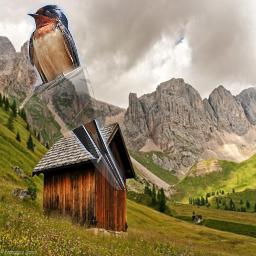Swallow: (27, 3, 125, 190)
